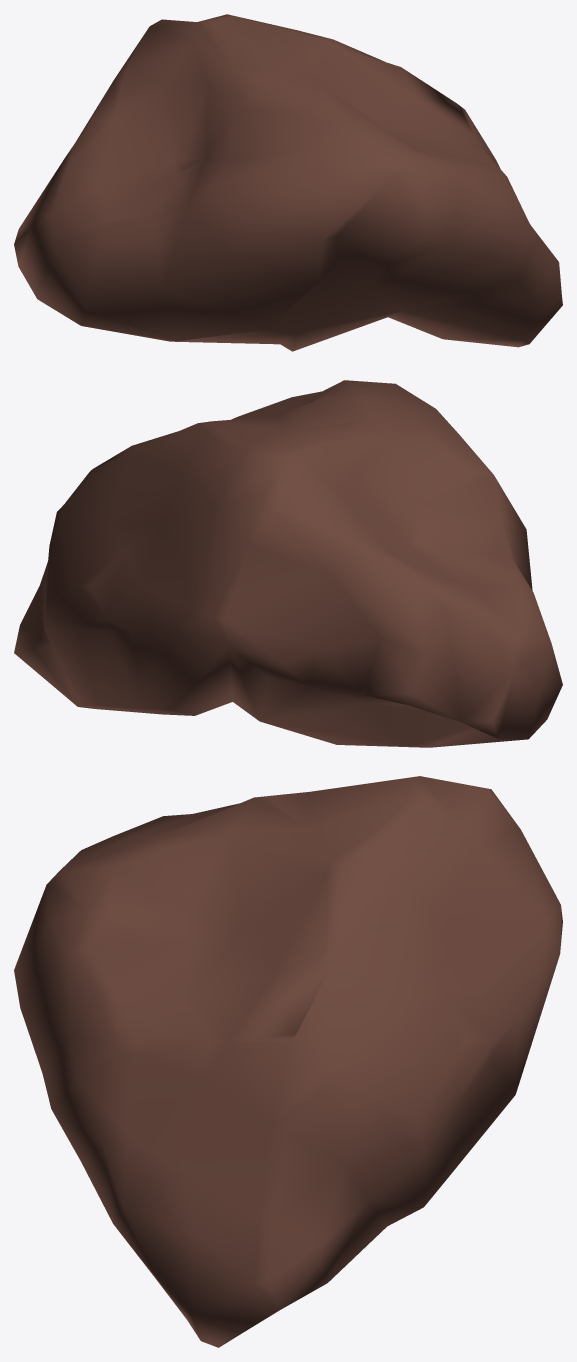
The model's file is p_mesh_hvs_rock_medium01_destruction_part01.fbx.
3 renders of one model, top to bottom at view 1: azimuth 30°, elevation 25°; view 2: azimuth 150°, elevation 25°; view 3: azimuth 270°, elevation 25°, orthographic. The views are drawn at different scales.
Visible parts, largest first — view 1: p_medium_destruction_part01; view 2: p_medium_destruction_part01; view 3: p_medium_destruction_part01.
Part boxes in pixels (x1,y1,x2,y2): p_medium_destruction_part01: (14,14,562,351); p_medium_destruction_part01: (14,380,562,747); p_medium_destruction_part01: (14,776,562,1347).
Bounding box in the file's own units: 8.9 × 5.94 × 7.01.
